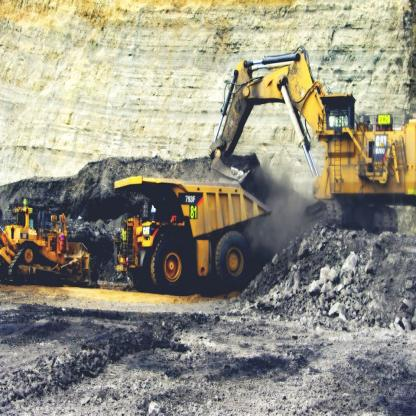bull_dozer/loader/grader: (1, 189, 97, 298)
dump_truck: (110, 174, 271, 299)
excavator: (210, 48, 415, 233)
